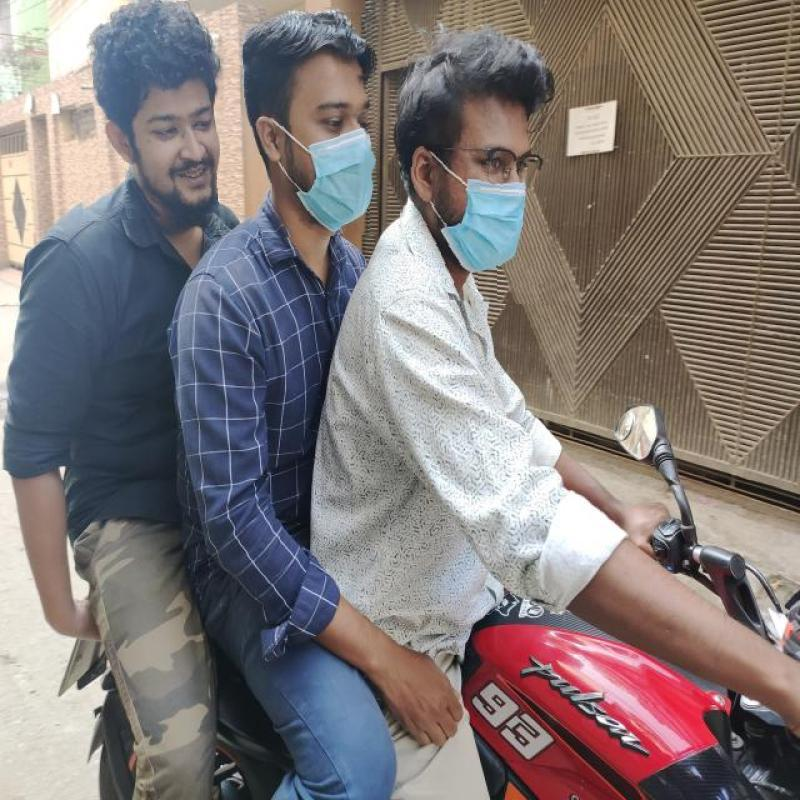nohelmet: (399, 34, 562, 304), (72, 1, 215, 220), (244, 12, 378, 237)
